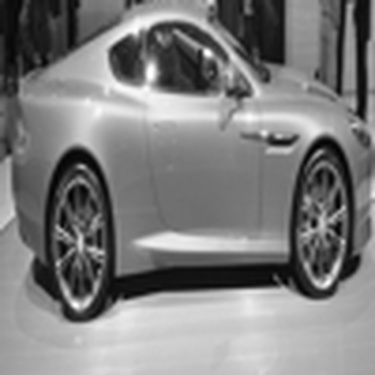car: (1, 14, 369, 321)
